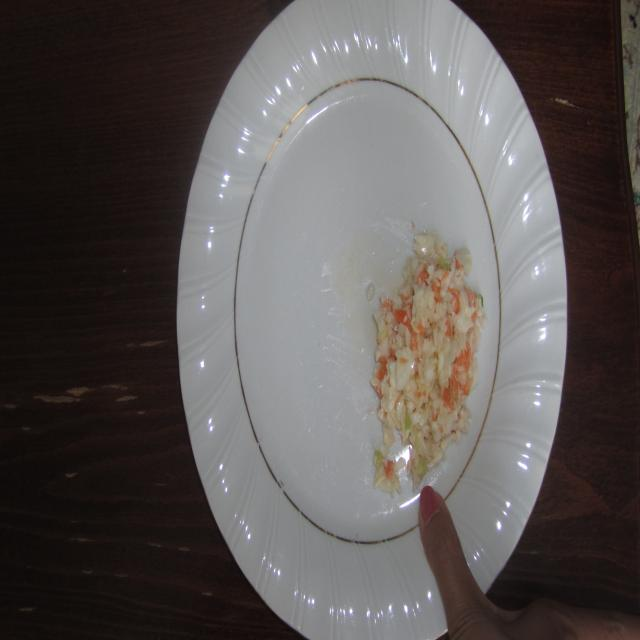vegatable salad: (338, 217, 492, 498)
